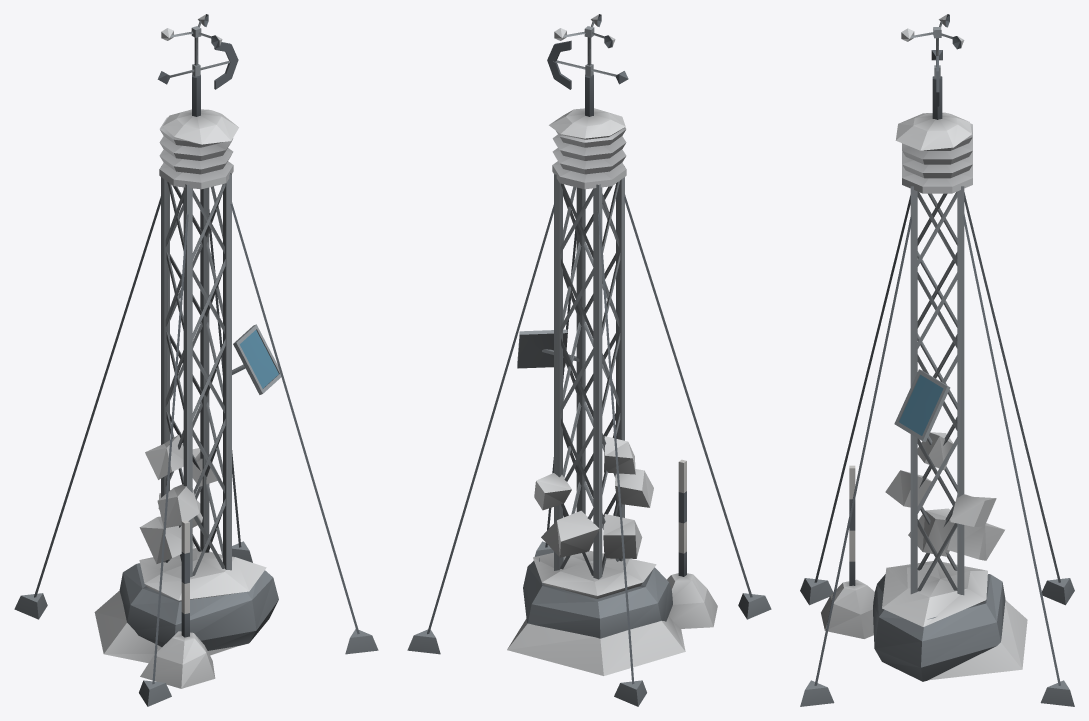
The model's file is mast.glb.
The picture shows the model from 3 angles, left to right: view 1: azimuth 30°, elevation 25°; view 2: azimuth 150°, elevation 25°; view 3: azimuth 270°, elevation 25°; orthographic projection. The views are drawn at different scales.
Visible parts, largest first — view 1: mast; view 2: mast; view 3: mast.
Part boxes in pixels (x1=…): mast: x1=14, y1=14, x2=378, y2=706; mast: x1=407, y1=14, x2=771, y2=706; mast: x1=800, y1=14, x2=1074, y2=706.
Bounding box in the file's own units: 2 × 5 × 2.
